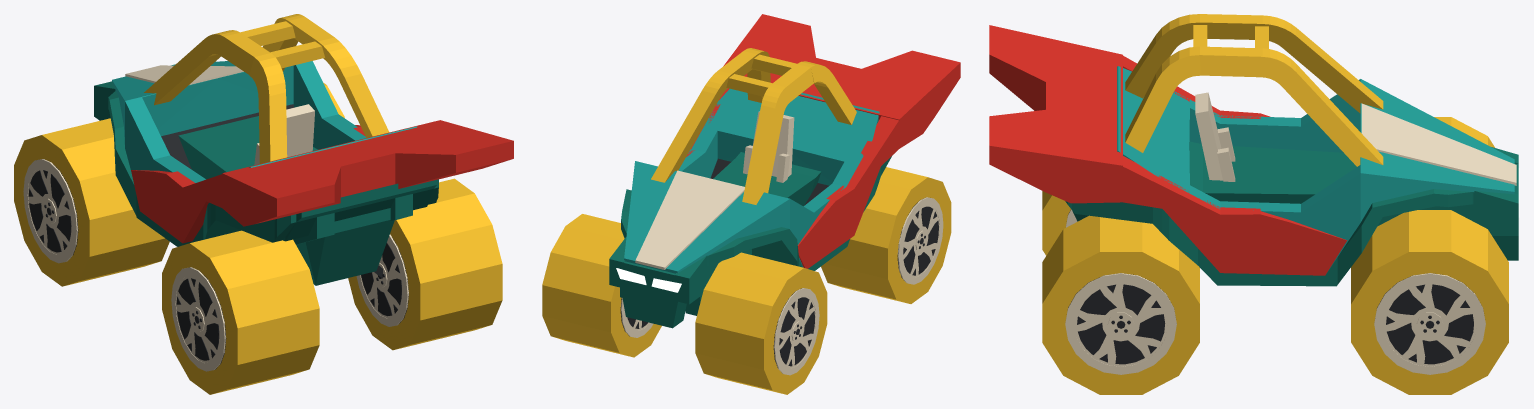
File: kum.glb
The picture shows the model from 3 angles, left to right: view 1: azimuth 30°, elevation 25°; view 2: azimuth 150°, elevation 25°; view 3: azimuth 270°, elevation 25°; orthographic projection. The views are drawn at different scales.
Parts seen in each view (by area): view 1: body, wheel_RL, wheel_RR, wheel_FL; view 2: body, wheel_FL, wheel_RL, wheel_FR; view 3: body, wheel_FR, wheel_RR, wheel_RL, wheel_FL.
Part boxes in pixels (x1=…): body: x1=94, y1=14, x2=513, y2=285; wheel_RL: x1=162, y1=230, x2=319, y2=394; wheel_RR: x1=348, y1=178, x2=502, y2=350; wheel_FL: x1=14, y1=118, x2=169, y2=286; body: x1=609, y1=14, x2=960, y2=328; wheel_FL: x1=695, y1=252, x2=827, y2=394; wheel_RL: x1=821, y1=167, x2=951, y2=303; wheel_FR: x1=542, y1=214, x2=661, y2=357; body: x1=989, y1=14, x2=1519, y2=286; wheel_FR: x1=1351, y1=210, x2=1508, y2=394; wheel_RR: x1=1042, y1=215, x2=1199, y2=394; wheel_RL: x1=1042, y1=191, x2=1077, y2=255; wheel_FL: x1=1434, y1=117, x2=1494, y2=147.
Bounding box in the file's own units: 2.16 × 2.14 × 3.51.
